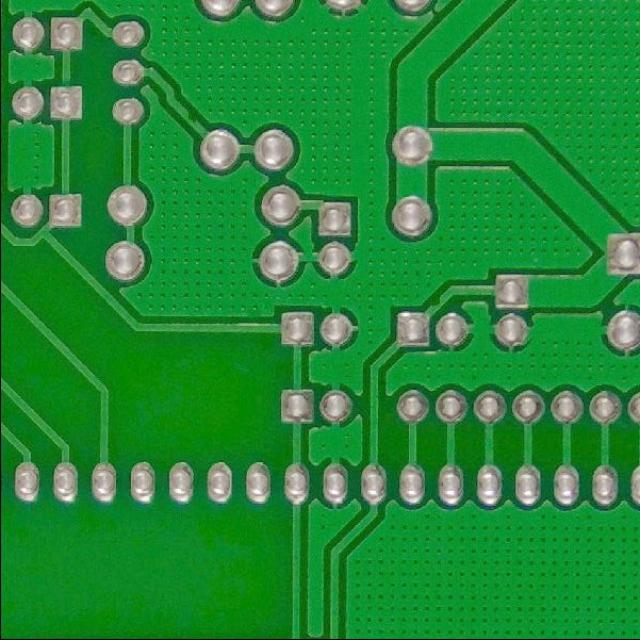mouse_bite: (178, 107, 202, 130), (423, 291, 443, 313)
